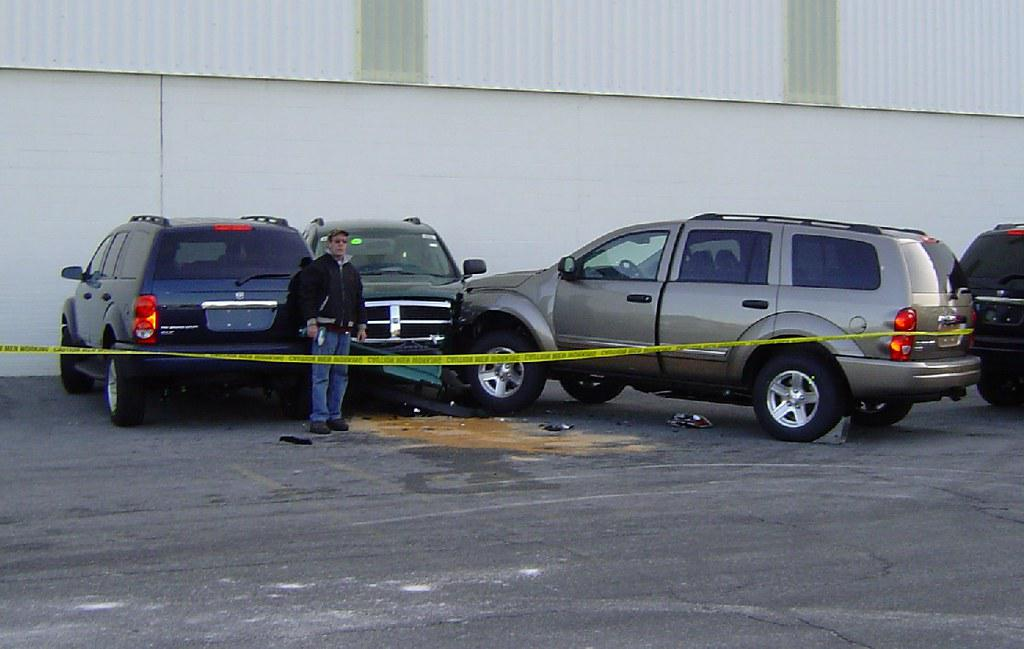front-bumper-dent: (337, 326, 480, 382)
quaterpanel-dent: (823, 296, 908, 372)
